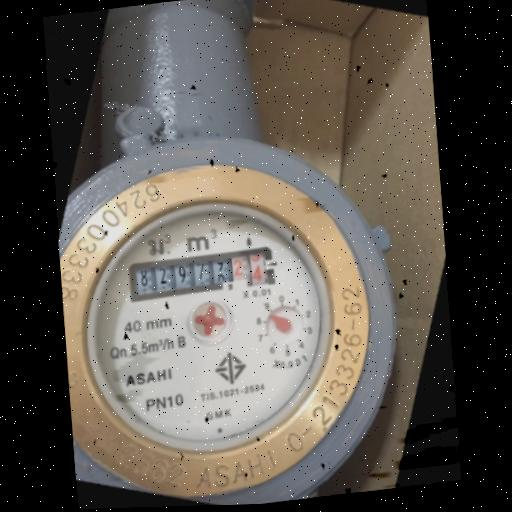2: (156, 267, 172, 291), (232, 257, 247, 281)
4: (249, 252, 266, 283)
7: (194, 262, 210, 285)
8: (136, 268, 152, 294)
9: (175, 264, 191, 289), (214, 260, 230, 284)
border_water_meter_number: (128, 245, 278, 304)
